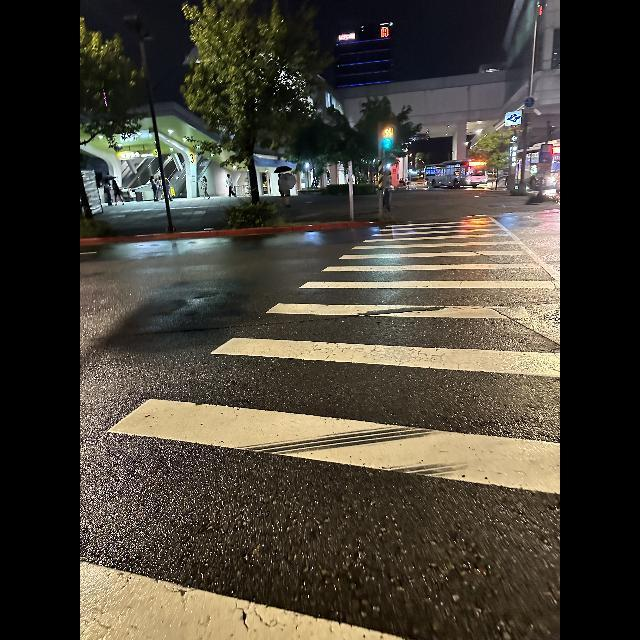sidewalk: (80, 212, 560, 640)
